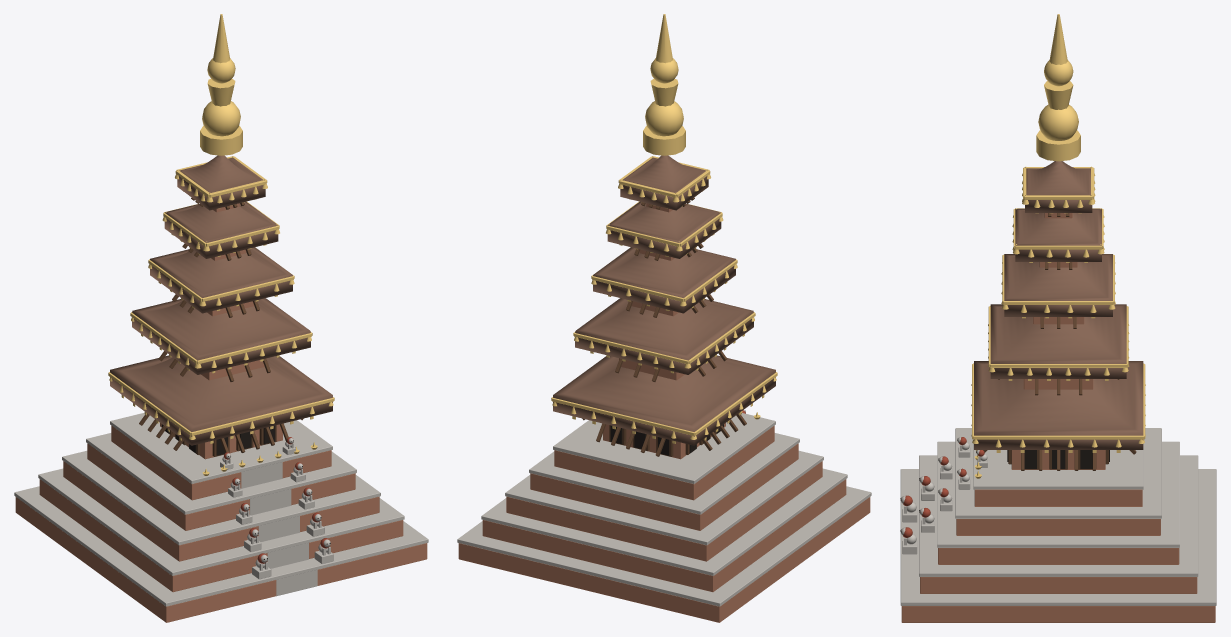
The model's file is nyatapola.glb.
The picture shows the model from 3 angles, left to right: view 1: azimuth 30°, elevation 25°; view 2: azimuth 150°, elevation 25°; view 3: azimuth 270°, elevation 25°; orthographic projection. The views are drawn at different scales.
Visible parts, largest first — view 1: nyatapola; view 2: nyatapola; view 3: nyatapola.
Part boxes in pixels (left/top/right/bottom): nyatapola: left=14, top=14, right=428, bottom=622; nyatapola: left=457, top=14, right=871, bottom=622; nyatapola: left=900, top=14, right=1216, bottom=622.
Bounding box in the file's own units: 1.01 × 1.91 × 1.01.
